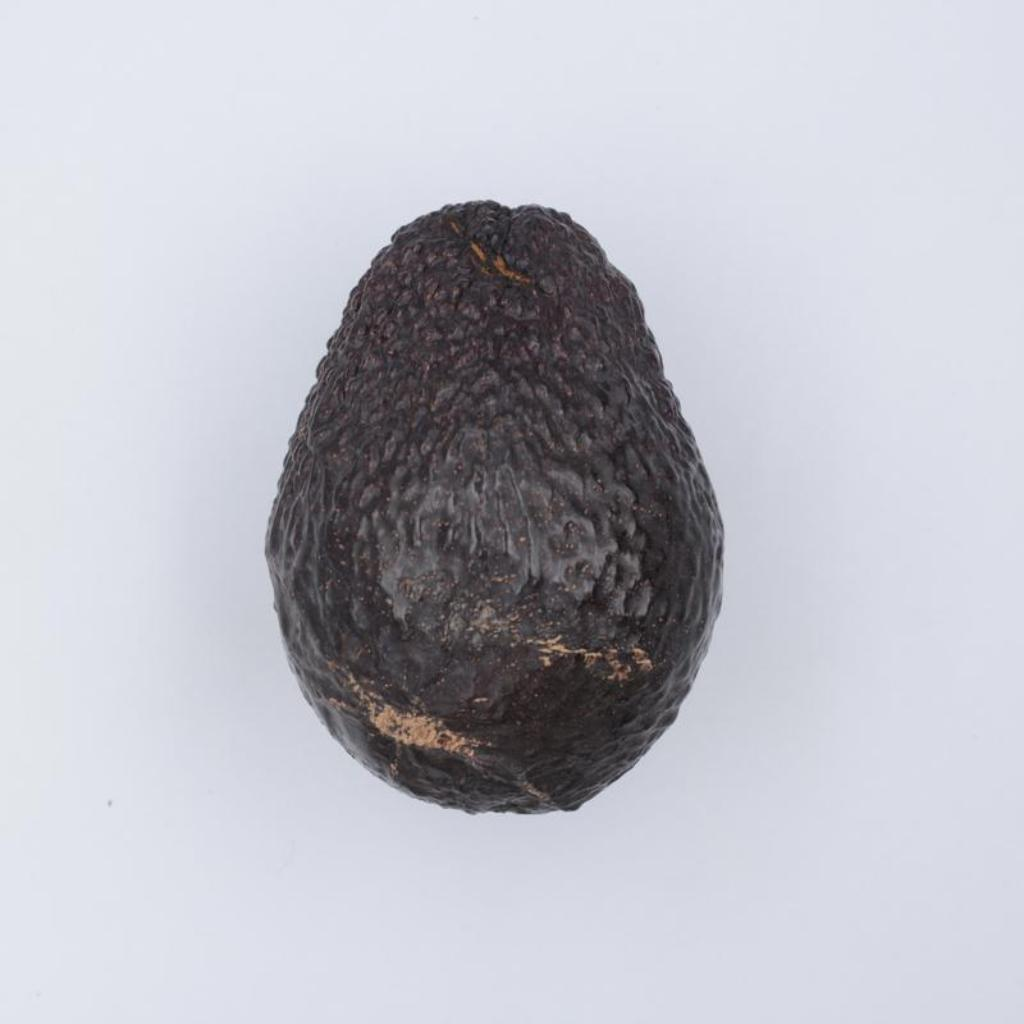scab: (265, 201, 722, 812)
